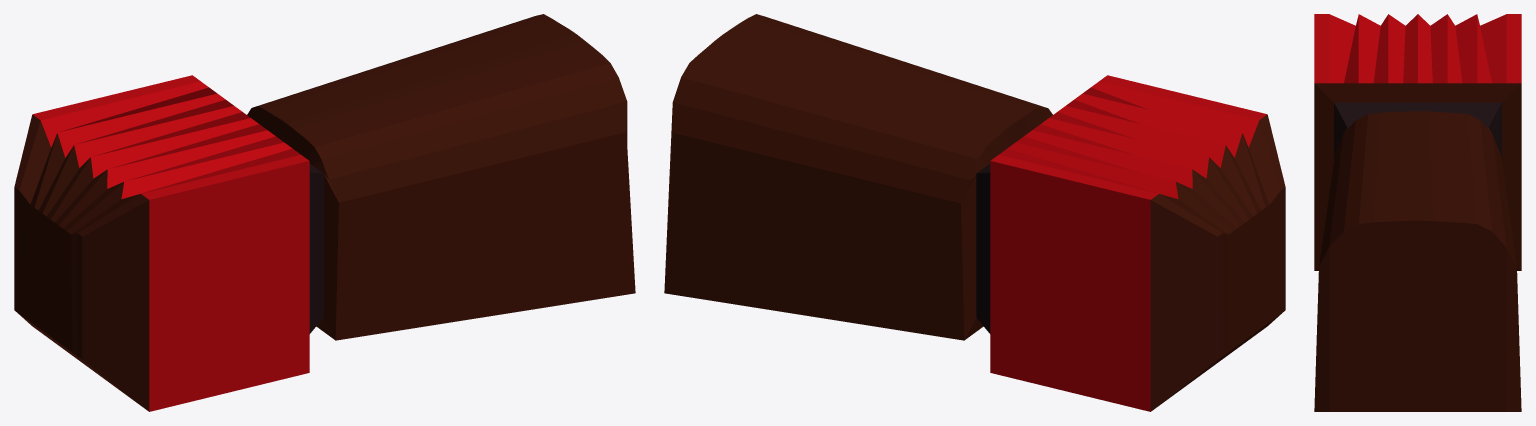
The model's file is placeholder_gauntlet.fbx.
3 renders of one model, left to right at view 1: azimuth 30°, elevation 25°; view 2: azimuth 150°, elevation 25°; view 3: azimuth 270°, elevation 25°, orthographic. The views are drawn at different scales.
Visible parts, largest first — view 1: Cube; view 2: Cube; view 3: Cube.
Boxes of the visible parts, left/top/right/bottom form: Cube: left=14, top=14, right=635, bottom=411; Cube: left=664, top=14, right=1285, bottom=411; Cube: left=1314, top=14, right=1521, bottom=411.
Size of the model in its own units: 522 by 204 by 200.
